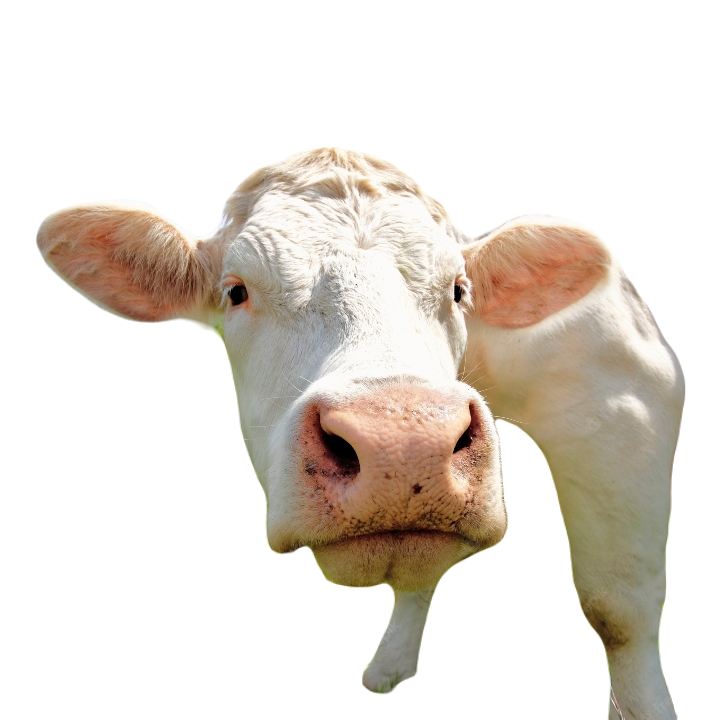Cow: (36, 147, 680, 718)
